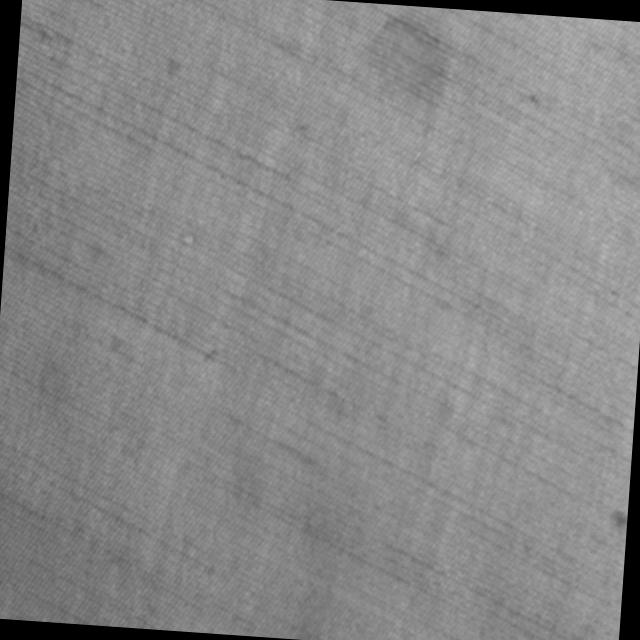oil spot: (362, 8, 446, 116)
